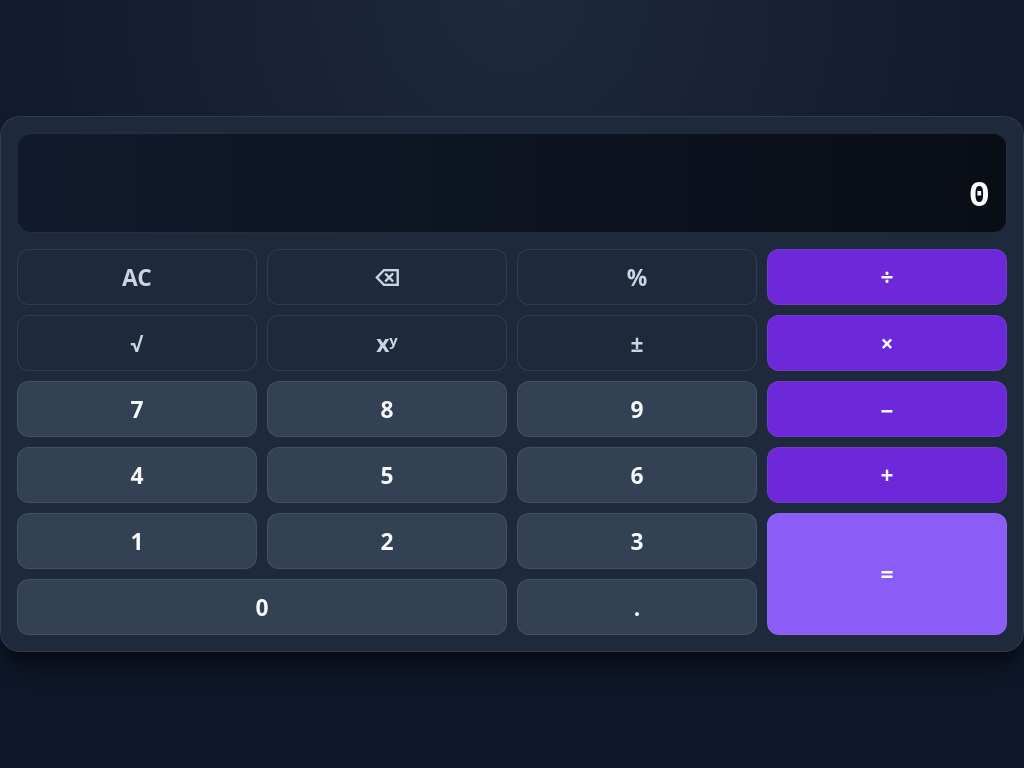
Calculator integration (UI + useCalculator + API client) › evaluates unary `9 √` -> `3` via POST /api/v1/sqrt {"a":9}
Click the button "9".
click(637, 409)  # box [517,381,757,437]
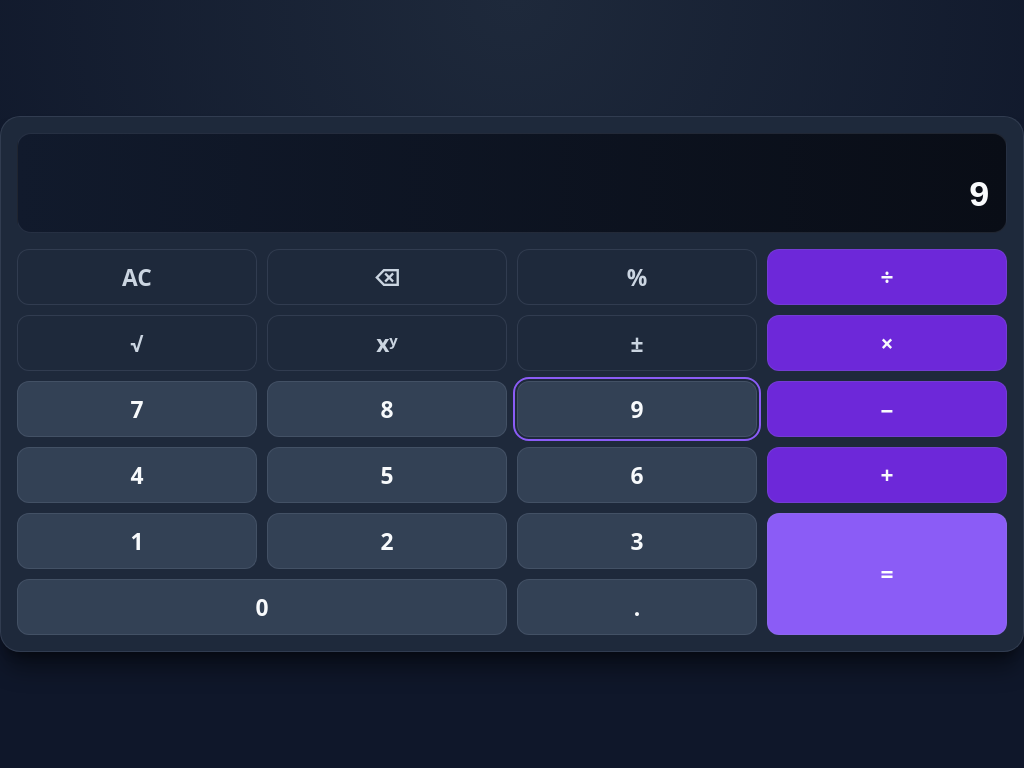
Click the button named "square root".
click(137, 343)  # box [17,315,257,371]
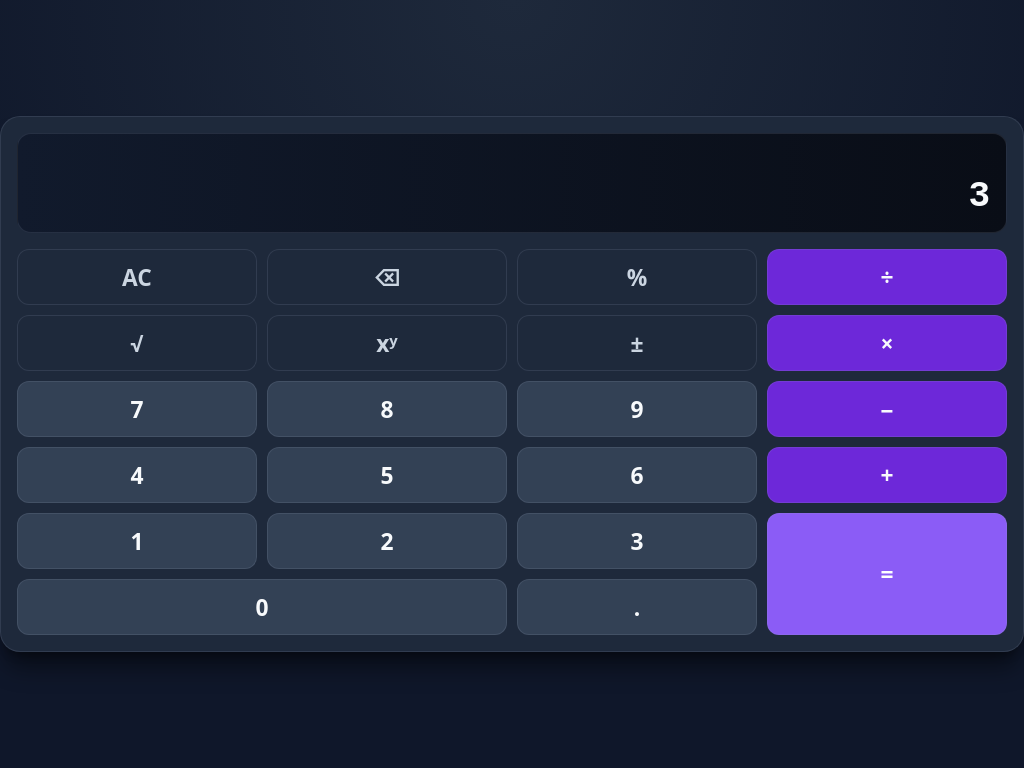
Check: the text with test id "calculator-display" reads "3", box [968,176,990,217]
